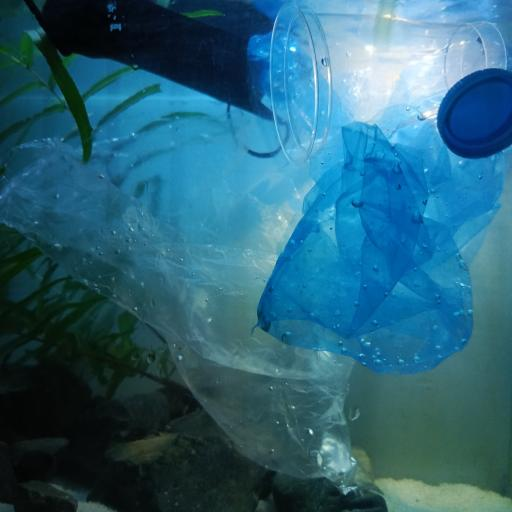bottle_cap: (438, 68, 512, 158)
mask: (34, 0, 297, 158)
plastic_bag: (0, 30, 396, 490), (250, 105, 510, 372)
plastic_cup: (270, 0, 506, 162)
